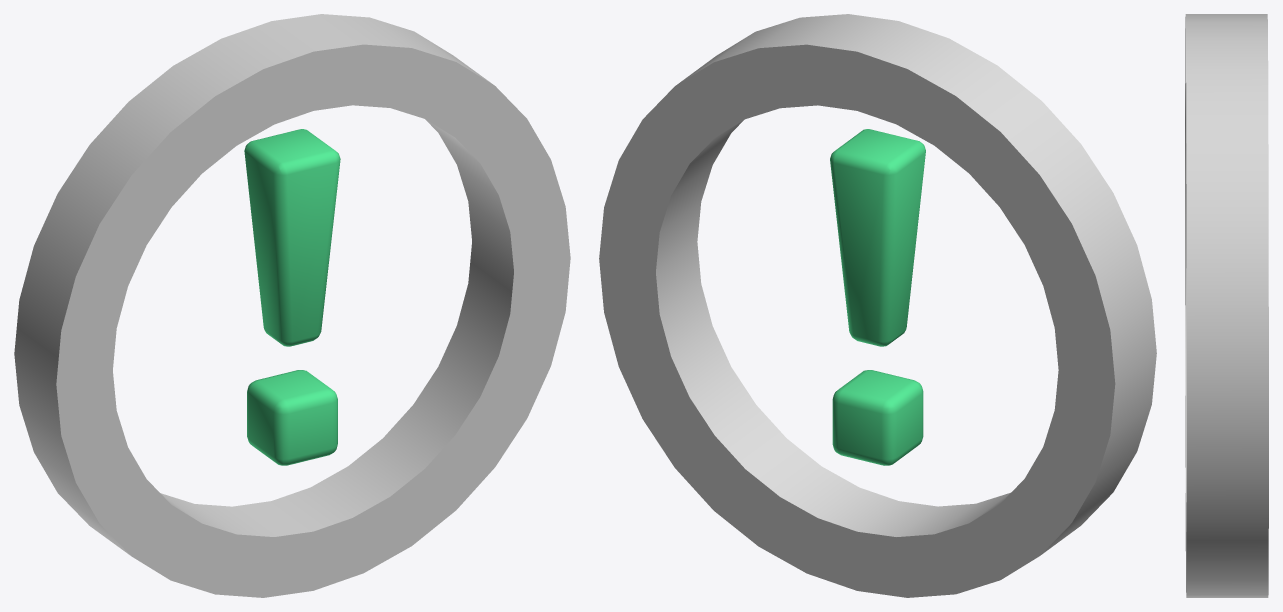
File: signExclamation.gltf
The picture shows the model from 3 angles, left to right: view 1: azimuth 30°, elevation 25°; view 2: azimuth 150°, elevation 25°; view 3: azimuth 270°, elevation 25°; orthographic projection.
Parts seen in each view (by area): view 1: Signal; view 2: Signal; view 3: Signal.
Part boxes in pixels (x1,y1,x2,y2): Signal: (14,14,570,597); Signal: (599,14,1156,597); Signal: (1185,14,1268,597).
Bounding box in the file's own units: 25.21 × 25.2 × 3.62.
